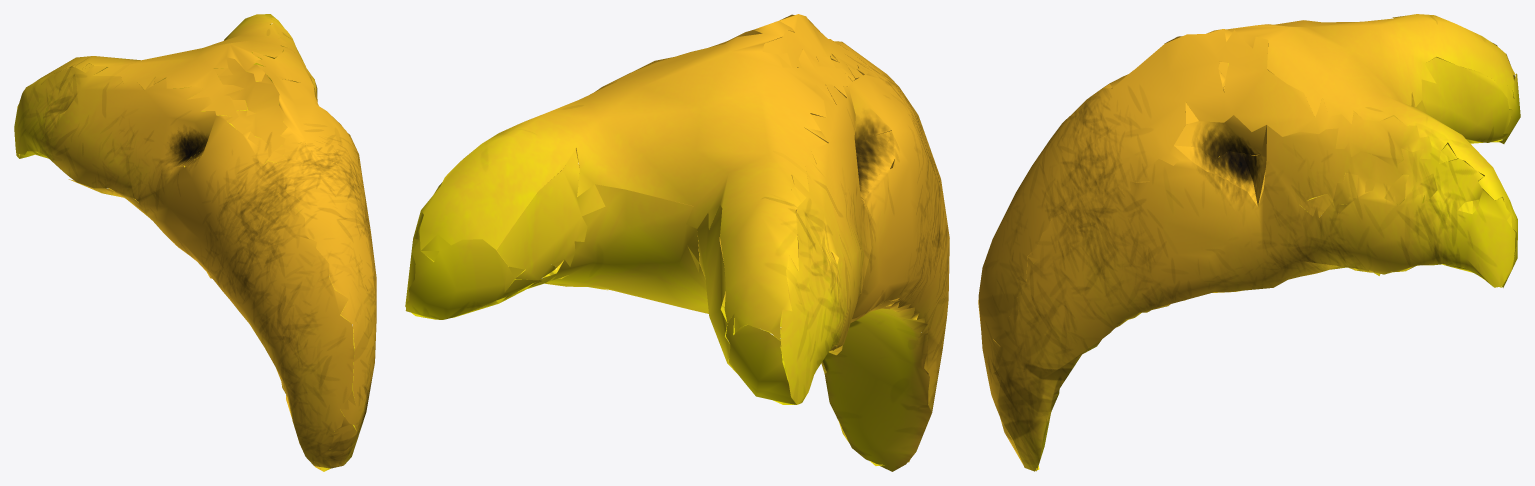
File: beak_top.gltf
3 renders of one model, left to right at view 1: azimuth 30°, elevation 25°; view 2: azimuth 150°, elevation 25°; view 3: azimuth 270°, elevation 25°, orthographic. The views are drawn at different scales.
Visible parts, largest first — view 1: Cube.002; view 2: Cube.002; view 3: Cube.002.
Part boxes in pixels (box(x1,y1,x2,y2)): Cube.002: box(14, 14, 376, 471); Cube.002: box(405, 14, 949, 471); Cube.002: box(978, 14, 1520, 471).
Bounding box in the file's own units: 1.32 × 1.67 × 1.85.
1 material, 1 textured.
